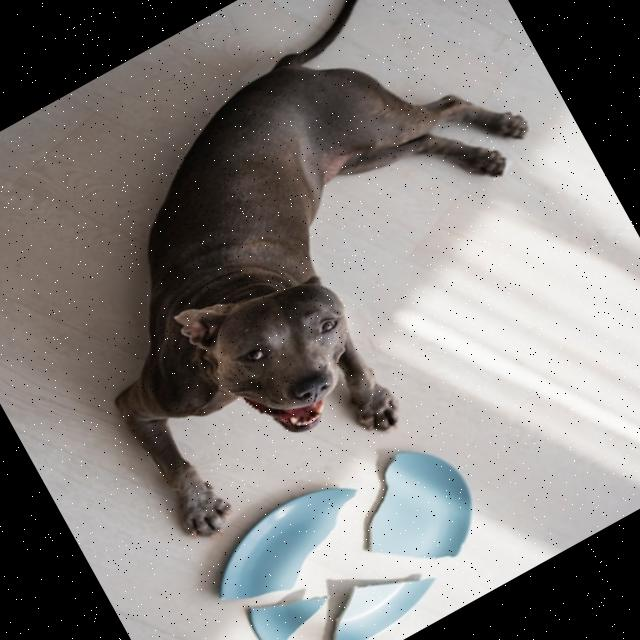Dog: (0, 0, 627, 548)
